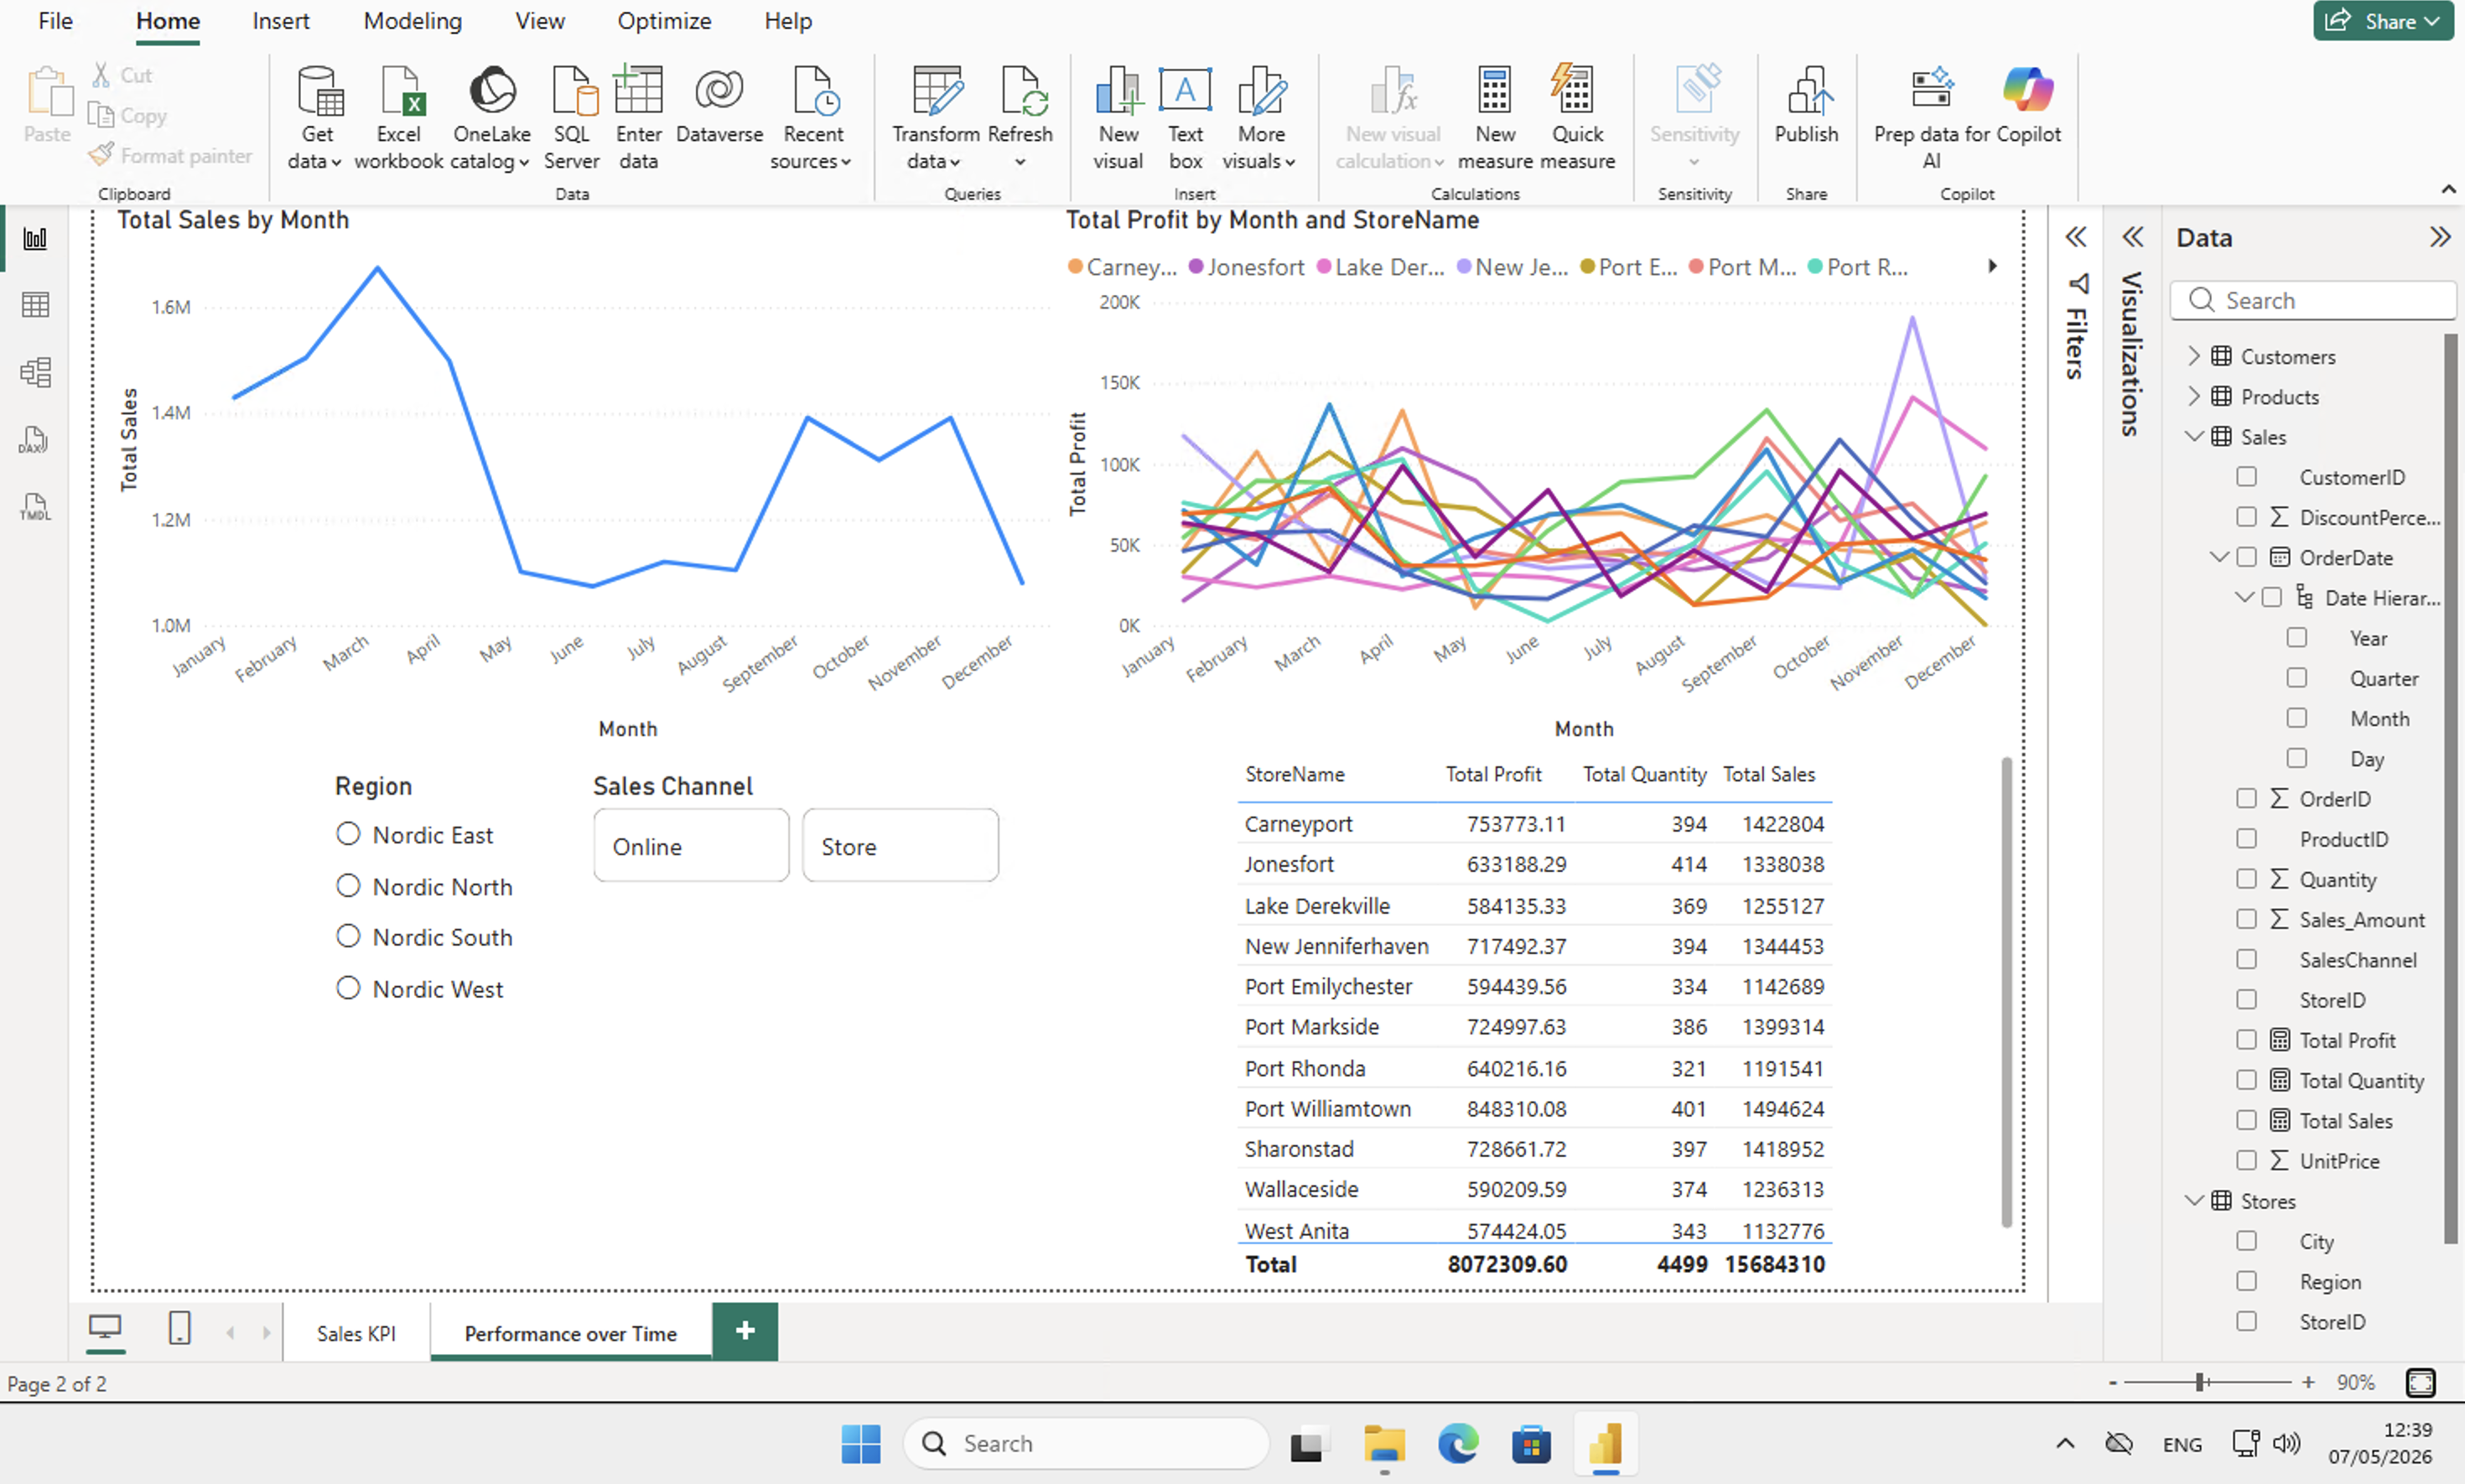

The page's visual inventory and layout, read from the dashboard file:
{"tool":"powerbi","page":{"name":"Performance over Time","canvas":[1280,720],"ordinal":1},"visuals":[{"type":"lineChart","fields":{"Category":["Sales.OrderDate.Variation.Date Hierarchy.Year","Sales.OrderDate.Variation.Date Hierarchy.Quarter","Sales.OrderDate.Variation.Date Hierarchy.Month","Sales.OrderDate.Variation.Date Hierarchy.Day"],"Y":["Sales.Total Sales"]},"box":[9.9,0,630.1,360.2],"z":0},{"type":"lineChart","fields":{"Category":["Sales.OrderDate.Variation.Date Hierarchy.Month"],"Y":["Sales.Total Profit"],"Series":["Stores.StoreName"]},"box":[640,0,640,360.2],"z":1},{"type":"tableEx","fields":{"Values":["Stores.StoreName","Sales.Total Profit","Sales.Total Quantity","Sales.Total Sales"]},"box":[753.9,360.2,526.1,360.2],"z":2},{"type":"listSlicer","fields":{"Values":["Stores.Region"]},"box":[154.7,376.3,170.8,308.2],"z":3},{"type":"advancedSlicerVisual","title":"Sales Channel","fields":{"Values":["Sales.SalesChannel"]},"box":[325.6,376.3,281,79.2],"z":4}]}

Visuals, with their boxes on the page's 1280x720 design canvas (x1, y1, x2, y2). These are canvas units, not pixel positions in the 2465x1484 screenshot, which may show the page scaled, cropped or inside an application window:
lineChart - Sales.OrderDate.Variation.Date Hierarchy.Year x Sales.OrderDate.Variation.Date Hierarchy.Quarter: pyautogui.locateOnScreen(10, 0, 640, 360)
lineChart - Sales.OrderDate.Variation.Date Hierarchy.Month x Sales.Total Profit: pyautogui.locateOnScreen(640, 0, 1280, 360)
tableEx - Stores.StoreName x Sales.Total Profit: pyautogui.locateOnScreen(754, 360, 1280, 720)
listSlicer - Stores.Region: pyautogui.locateOnScreen(155, 376, 326, 684)
"Sales Channel" advancedSlicerVisual: pyautogui.locateOnScreen(326, 376, 607, 456)
